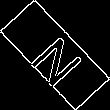N_NE: (22, 23, 88, 87)
